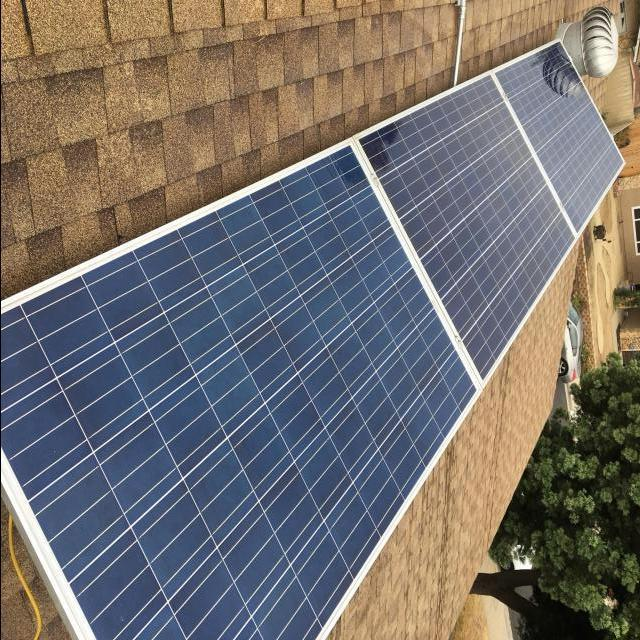no faulty: (0, 38, 623, 640)
